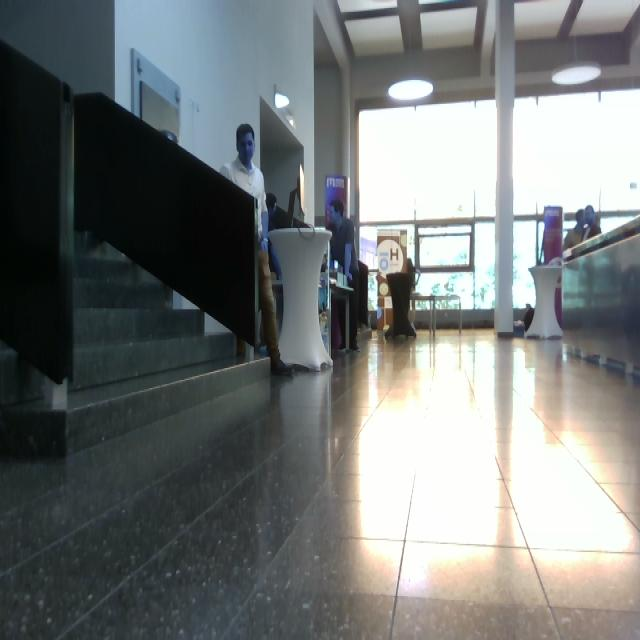door: (260, 96, 305, 360)
light bulb: (551, 37, 602, 86), (552, 63, 602, 87), (388, 78, 434, 101), (275, 93, 290, 109)
person: (219, 124, 295, 377), (329, 200, 361, 353)
pillar: (269, 226, 334, 372), (494, 1, 516, 336)
tiled floor: (1, 324, 639, 638)
